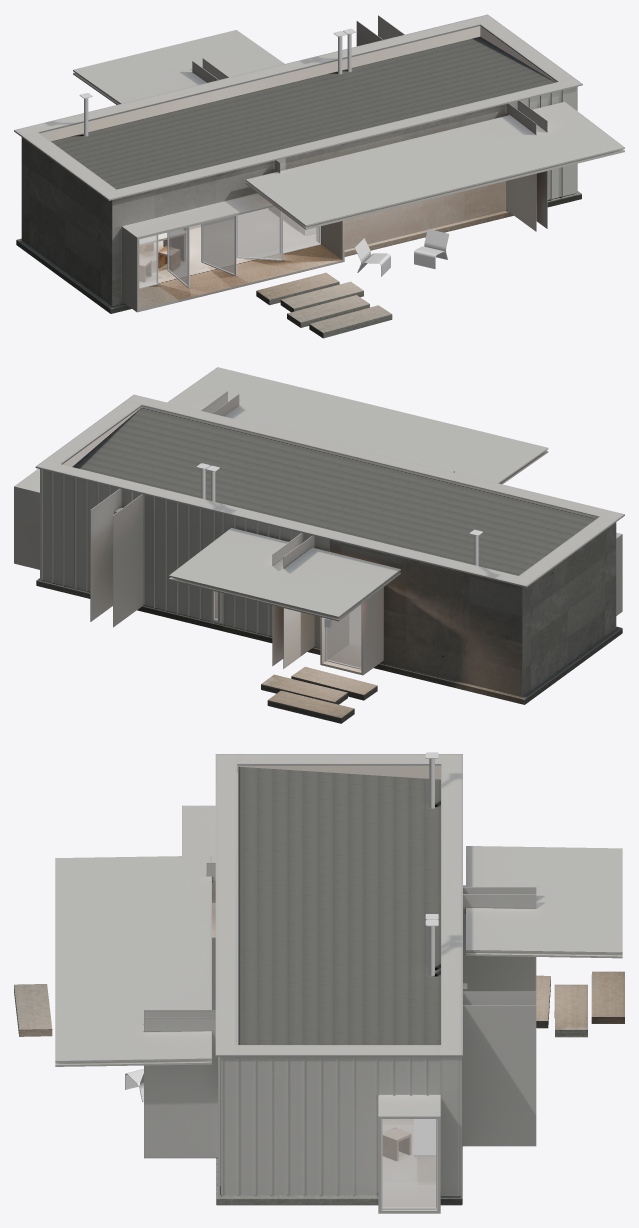
The model's file is ar-and.glb.
3 renders of one model, top to bottom at view 1: azimuth 30°, elevation 25°; view 2: azimuth 150°, elevation 25°; view 3: azimuth 270°, elevation 25°, orthographic. The views are drawn at different scales.
Parts seen in each view (by area): view 1: Cube_003, Cube_001, Cube_064, Plane, Cube_136, Cube_043, Cube_098, Cube_016, Cube_135, Cube_150, Cube_002, Plane_002 (+3 smaller); view 2: Cube_003, Cube_001, Cube_004, Cube_064, Plane, Cube_098, Cube_043, Cube_135, Cube_015, Cube_071, Cube_016, Cylinder (+2 smaller); view 3: Cube_003, Cube_004, Cube_064, Plane, Cube_098, Cube_150, Cube_135, Cube_016, Cube_043, Cube_071, Cube_136, Cube_001 (+3 smaller).
Part boxes in pixels (x1=…): Cube_003: x1=51, y1=36, x2=555, y2=189; Cube_001: x1=21, y1=26, x2=556, y2=305; Cube_064: x1=245, y1=101, x2=624, y2=229; Plane: x1=14, y1=14, x2=582, y2=200; Cube_136: x1=121, y1=193, x2=344, y2=312; Cube_043: x1=16, y1=191, x2=581, y2=313; Cube_098: x1=73, y1=30, x2=284, y2=104; Cube_016: x1=139, y1=206, x2=320, y2=288; Cube_135: x1=256, y1=272, x2=392, y2=338; Cube_150: x1=506, y1=98, x2=547, y2=231; Cube_002: x1=528, y1=87, x2=576, y2=199; Plane_002: x1=354, y1=229, x2=449, y2=276; Cube_003: x1=72, y1=407, x2=596, y2=575; Cube_001: x1=62, y1=406, x2=616, y2=697; Cube_004: x1=40, y1=469, x2=329, y2=668; Cube_064: x1=167, y1=367, x2=548, y2=484; Plane: x1=35, y1=394, x2=624, y2=587; Cube_098: x1=169, y1=528, x2=400, y2=621; Cube_043: x1=36, y1=578, x2=622, y2=704; Cube_135: x1=261, y1=666, x2=377, y2=723; Cube_015: x1=320, y1=587, x2=383, y2=675; Cube_071: x1=14, y1=468, x2=39, y2=569; Cube_016: x1=213, y1=591, x2=361, y2=669; Cylinder: x1=196, y1=463, x2=482, y2=565; Cube_003: x1=237, y1=766, x2=440, y2=1044; Cube_004: x1=222, y1=887, x2=536, y2=1196; Cube_064: x1=55, y1=855, x2=211, y2=1066; Plane: x1=215, y1=754, x2=462, y2=1056; Cube_098: x1=466, y1=846, x2=622, y2=958; Cube_150: x1=144, y1=1010, x2=217, y2=1158; Cube_135: x1=14, y1=971, x2=624, y2=1037; Cube_016: x1=381, y1=1119, x2=437, y2=1209; Cube_043: x1=216, y1=1119, x2=462, y2=1205; Cube_071: x1=378, y1=1095, x2=440, y2=1213; Cube_136: x1=182, y1=805, x2=215, y2=1009; Cube_001: x1=237, y1=766, x2=441, y2=1044.
Size of the model in its own units: 14.15 by 3.87 by 11.42.
Materials: 13 (3 with a texture image).
